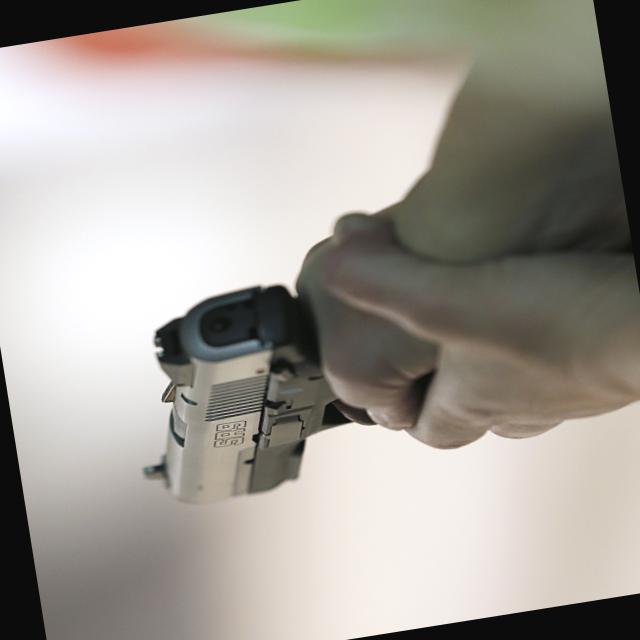handgun: (101, 248, 484, 524)
